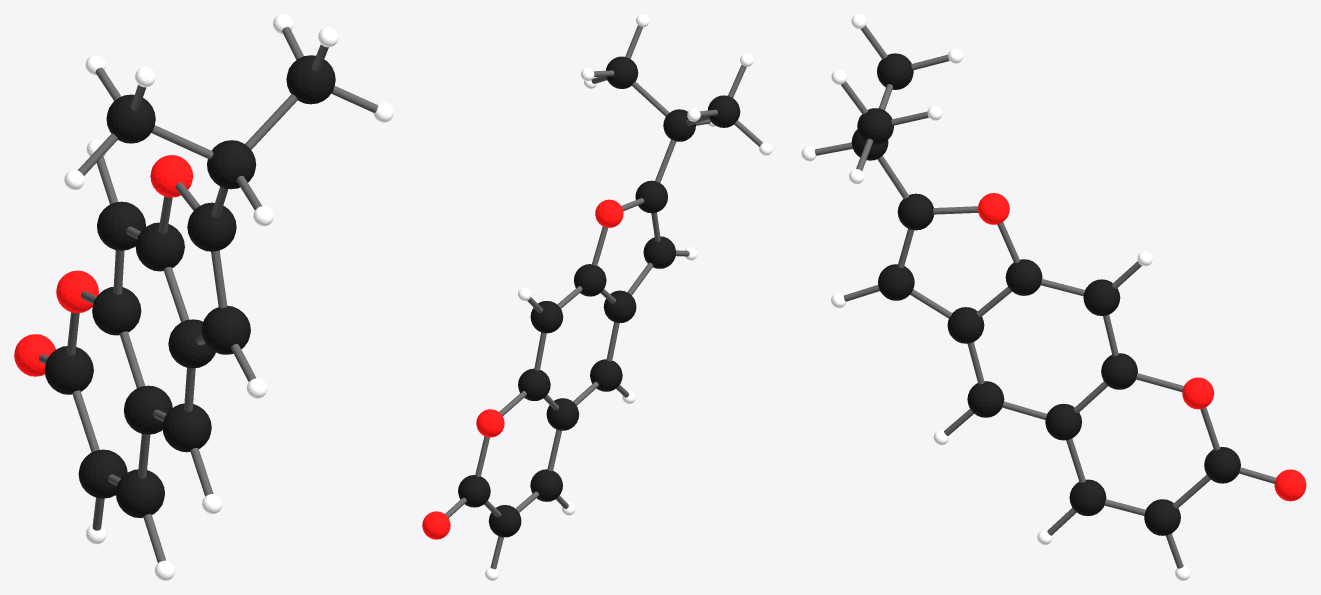
File: molecule.glb
The picture shows the model from 3 angles, left to right: view 1: azimuth 30°, elevation 25°; view 2: azimuth 150°, elevation 25°; view 3: azimuth 270°, elevation 25°; orthographic projection. The views are drawn at different scales.
Visible parts, largest first — view 1: geometry_13, geometry_4, geometry_6, geometry_8, geometry_10, geometry_1, geometry_3, geometry_15, geometry_0, geometry_2, geometry_14, geometry_7 (+11 smaller); view 2: geometry_10, geometry_8, geometry_6, geometry_15, geometry_13, geometry_4, geometry_3, geometry_0, geometry_14, geometry_7, geometry_9, geometry_2 (+5 smaller); view 3: geometry_15, geometry_6, geometry_10, geometry_13, geometry_5, geometry_14, geometry_9, geometry_7, geometry_3, geometry_8, geometry_4, geometry_2 (+4 smaller).
Boxes of the visible parts, x1,y1,x2,y2 form: geometry_13: (92,287,141,335); geometry_4: (201,306,250,354); geometry_6: (162,403,211,452); geometry_8: (115,469,164,517); geometry_10: (44,346,93,394); geometry_1: (207,140,256,189); geometry_3: (187,202,236,251); geometry_15: (135,222,184,271); geometry_0: (286,55,335,104); geometry_2: (106,94,155,143); geometry_14: (97,201,145,250); geometry_7: (124,385,172,434); geometry_10: (458,475,490,507); geometry_8: (530,469,562,501); geometry_6: (590,359,622,391); geometry_15: (574,264,606,296); geometry_13: (518,368,550,400); geometry_4: (643,236,676,268); geometry_3: (635,180,667,213); geometry_0: (606,56,638,88); geometry_14: (530,301,563,333); geometry_7: (546,398,579,430); geometry_9: (488,505,521,537); geometry_2: (707,95,740,127); geometry_15: (1005,259,1042,295); geometry_6: (967,381,1004,417); geometry_10: (1204,447,1240,483); geometry_13: (1101,353,1137,389); geometry_5: (947,307,984,343); geometry_14: (1083,279,1120,315); geometry_9: (1144,499,1180,535); geometry_7: (1045,404,1081,440); geometry_3: (897,193,933,230); geometry_8: (1069,479,1106,515); geometry_4: (878,264,914,300); geometry_2: (877,53,913,89).
Size of the model in its own units: 0.1198 by 0.257 by 0.2302.
